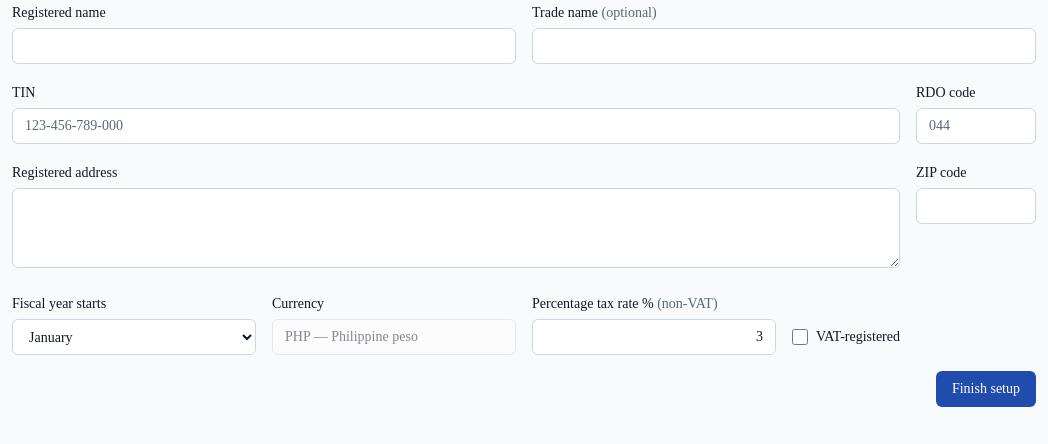
Scenario: CompanyForm › formats the TIN and flags an incomplete one
In the field labelled "TIN": (456, 126) left=12, top=108, right=900, bottom=144, type "12345678"
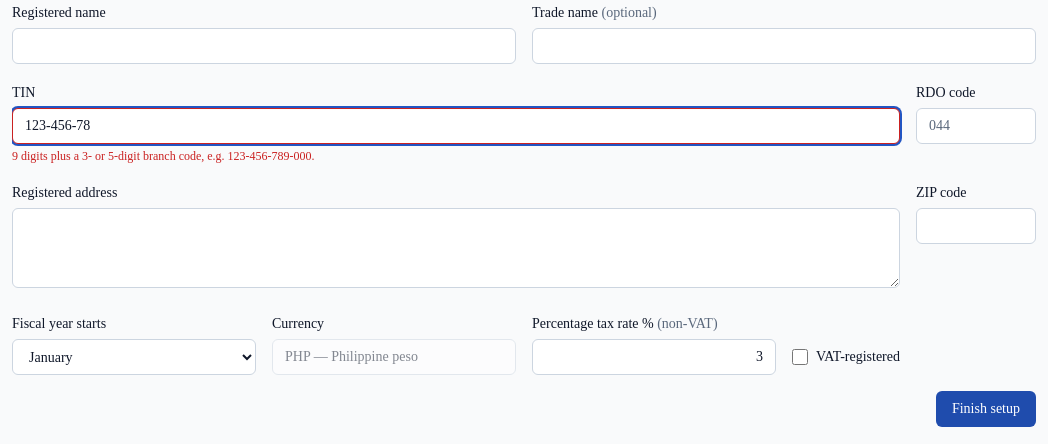
Now the field labelled "TIN" holds "123-456-78"
In the field labelled "TIN": (456, 126) left=12, top=108, right=900, bottom=144, type "9000"
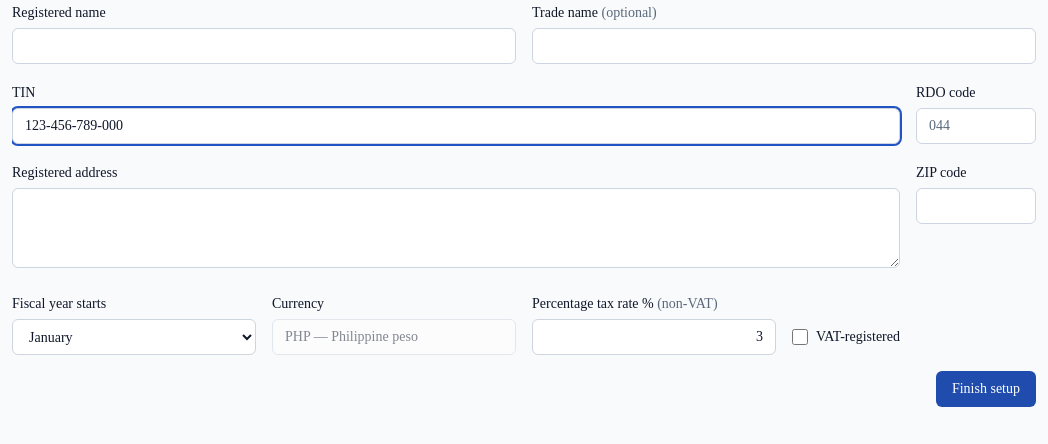
Expected: the button "Finish setup" is shown, left=936, top=371, right=1036, bottom=407
Now the field labelled "TIN" holds "123-456-789-000", box left=12, top=108, right=900, bottom=144
